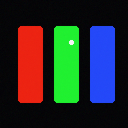0 point: (69, 40, 73, 44)
